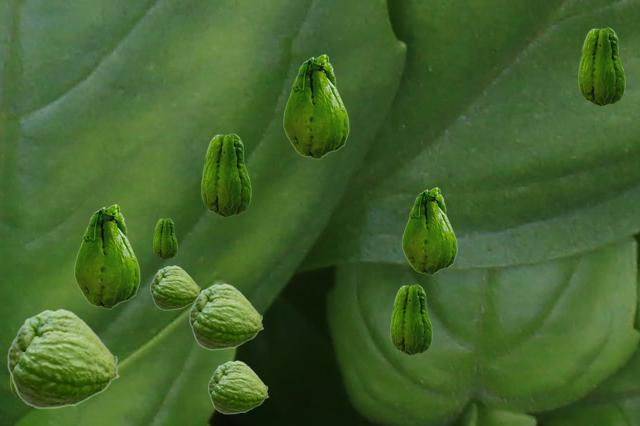sayote: (7, 308, 119, 408), (283, 54, 348, 158), (74, 204, 139, 308), (189, 283, 263, 349), (402, 187, 456, 274), (201, 133, 250, 216), (578, 27, 624, 105), (208, 360, 268, 413), (390, 284, 431, 354), (150, 265, 200, 309), (153, 218, 176, 258), (10, 375, 21, 400)
